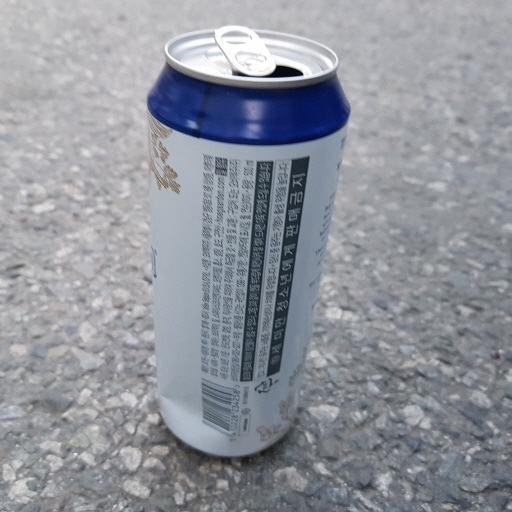Metal_0: (142, 26, 352, 464)
